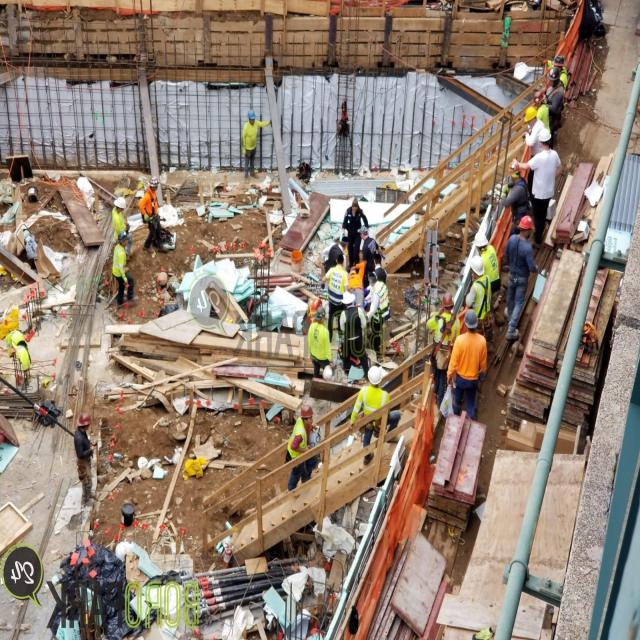Reflective-Jacket: (299, 320, 338, 364), (7, 330, 32, 375), (356, 385, 389, 418), (472, 275, 491, 319), (328, 264, 348, 301), (373, 280, 391, 320), (288, 420, 308, 456), (141, 190, 157, 219), (112, 246, 127, 276)
Safety-Helmet: (368, 364, 384, 384), (464, 309, 479, 328), (470, 255, 484, 275), (78, 411, 92, 427), (520, 214, 534, 230), (474, 233, 488, 248), (524, 105, 536, 122), (122, 501, 135, 516), (539, 130, 551, 143), (302, 404, 314, 417), (114, 196, 126, 208), (157, 272, 168, 284), (292, 249, 302, 262), (247, 108, 257, 120), (510, 160, 520, 172), (29, 187, 38, 198), (150, 175, 158, 186), (118, 229, 127, 238)
